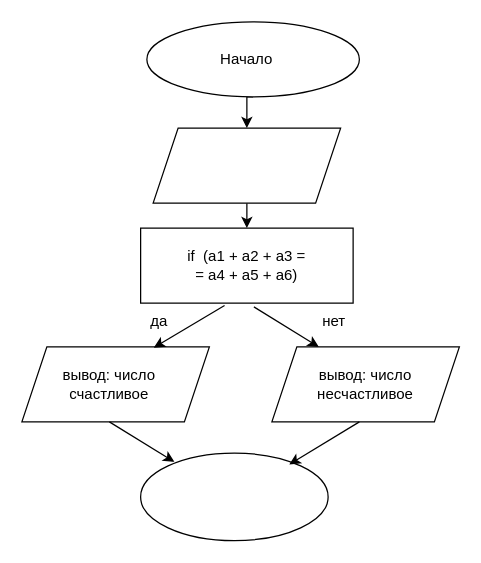
This 481x563 diagram has some shape labels left out. The centre of each missing label's shape, as x and y in pixels:
"ввод: x" belongs at point 246,165.
"конец" belongs at point 233,496.
